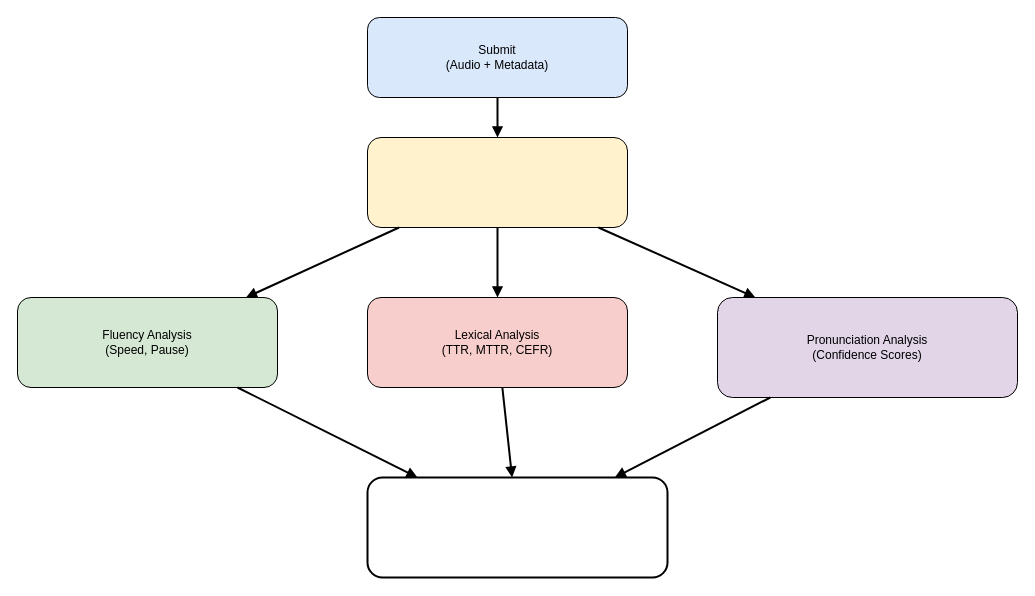
Image size: 1035x596. Some labels were removed from this diagram. The shapes that lost their labels are listed below. From the top down, each one's centre as x and y in pixels, then its label:
At point 497,182: "Transcript (Word, Prob, Time)".
At point 517,527: "Feedback Generator (Final Text Feedback)".
